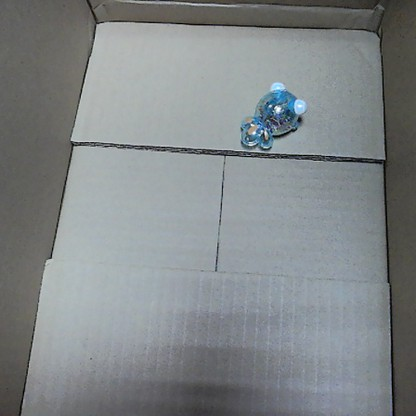bluefish: (241, 80, 306, 150)
